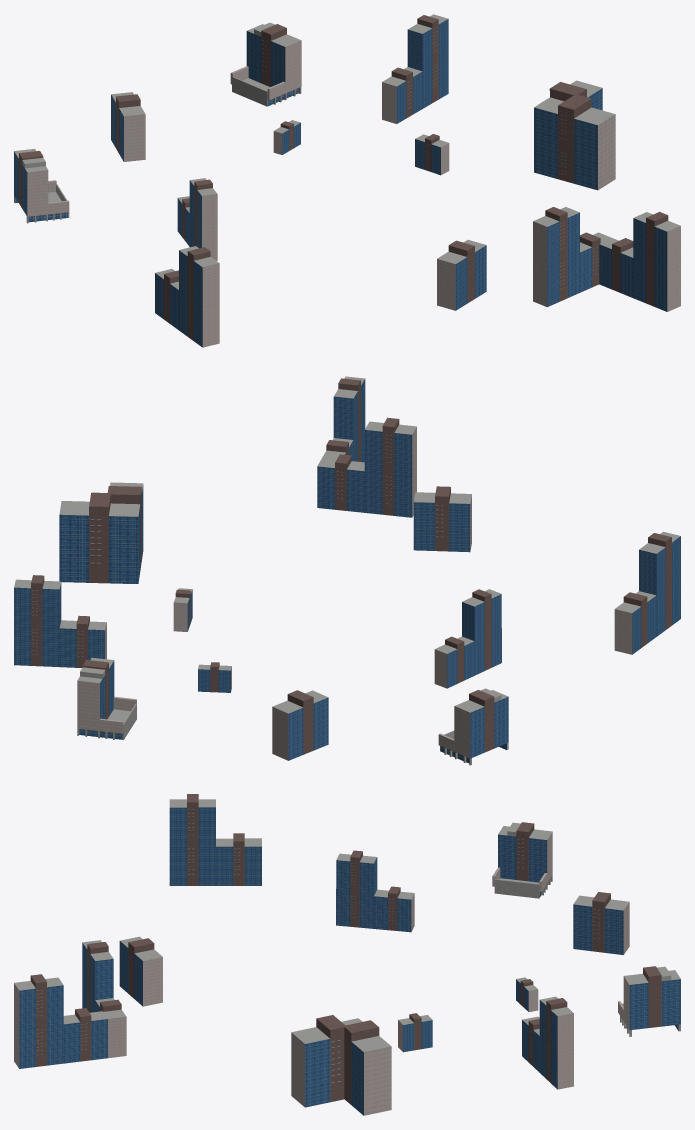
File: China_track_building_city_02.dae
The picture shows the model from 3 angles, top to bottom: view 1: azimuth 30°, elevation 25°; view 2: azimuth 150°, elevation 25°; view 3: azimuth 270°, elevation 25°; orthographic projection. The views are drawn at different scales.
Parts seen in each view (by area): view 1: building_city_02_11, building_city_02_06, building_city_02_08, building_city_02_09, building_city_02_04, building_city_02_02, building_city_02_07, building_city_02_10, building_city_02_01, building_city_02_03, building_city_02_05; view 2: building_city_02_11, building_city_02_06, building_city_02_09, building_city_02_08, building_city_02_10, building_city_02_04, building_city_02_07, building_city_02_02, building_city_02_01, building_city_02_05, building_city_02_03; view 3: building_city_02_11, building_city_02_06, building_city_02_08, building_city_02_10, building_city_02_07, building_city_02_09, building_city_02_04, building_city_02_01, building_city_02_02, building_city_02_03, building_city_02_05.
Boxes of the visible parts, x1=… form: building_city_02_11: x1=533, y1=207, x2=680, y2=311; building_city_02_06: x1=534, y1=80, x2=615, y2=190; building_city_02_08: x1=155, y1=246, x2=219, y2=347; building_city_02_09: x1=382, y1=14, x2=448, y2=123; building_city_02_04: x1=230, y1=22, x2=301, y2=106; building_city_02_02: x1=437, y1=239, x2=486, y2=310; building_city_02_07: x1=14, y1=148, x2=69, y2=223; building_city_02_10: x1=177, y1=178, x2=217, y2=260; building_city_02_01: x1=111, y1=92, x2=145, y2=161; building_city_02_03: x1=415, y1=134, x2=449, y2=175; building_city_02_05: x1=273, y1=120, x2=300, y2=154; building_city_02_11: x1=317, y1=376, x2=416, y2=517; building_city_02_06: x1=59, y1=482, x2=143, y2=583; building_city_02_09: x1=14, y1=575, x2=106, y2=667; building_city_02_08: x1=614, y1=531, x2=680, y2=654; building_city_02_10: x1=434, y1=589, x2=501, y2=688; building_city_02_04: x1=77, y1=657, x2=136, y2=739; building_city_02_07: x1=438, y1=688, x2=508, y2=765; building_city_02_02: x1=413, y1=486, x2=471, y2=552; building_city_02_01: x1=272, y1=690, x2=328, y2=760; building_city_02_05: x1=198, y1=662, x2=231, y2=692; building_city_02_03: x1=173, y1=588, x2=192, y2=631; building_city_02_11: x1=14, y1=940, x2=126, y2=1068; building_city_02_06: x1=291, y1=1015, x2=391, y2=1115; building_city_02_08: x1=169, y1=794, x2=261, y2=885; building_city_02_10: x1=336, y1=850, x2=414, y2=932; building_city_02_07: x1=492, y1=822, x2=552, y2=898; building_city_02_09: x1=522, y1=996, x2=573, y2=1089; building_city_02_04: x1=618, y1=966, x2=680, y2=1036; building_city_02_01: x1=573, y1=892, x2=629, y2=954; building_city_02_02: x1=119, y1=936, x2=162, y2=1006; building_city_02_03: x1=398, y1=1013, x2=432, y2=1052; building_city_02_05: x1=516, y1=977, x2=538, y2=1011.
Size of the model in its own units: 44.18 by 51.87 by 7.18.
Materials: 4 (4 with a texture image).
